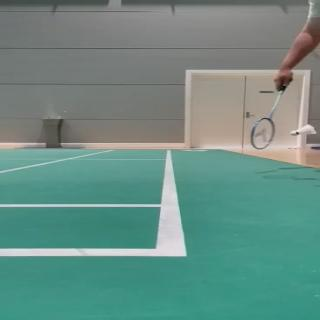Shuttle: (290, 124, 317, 136)
